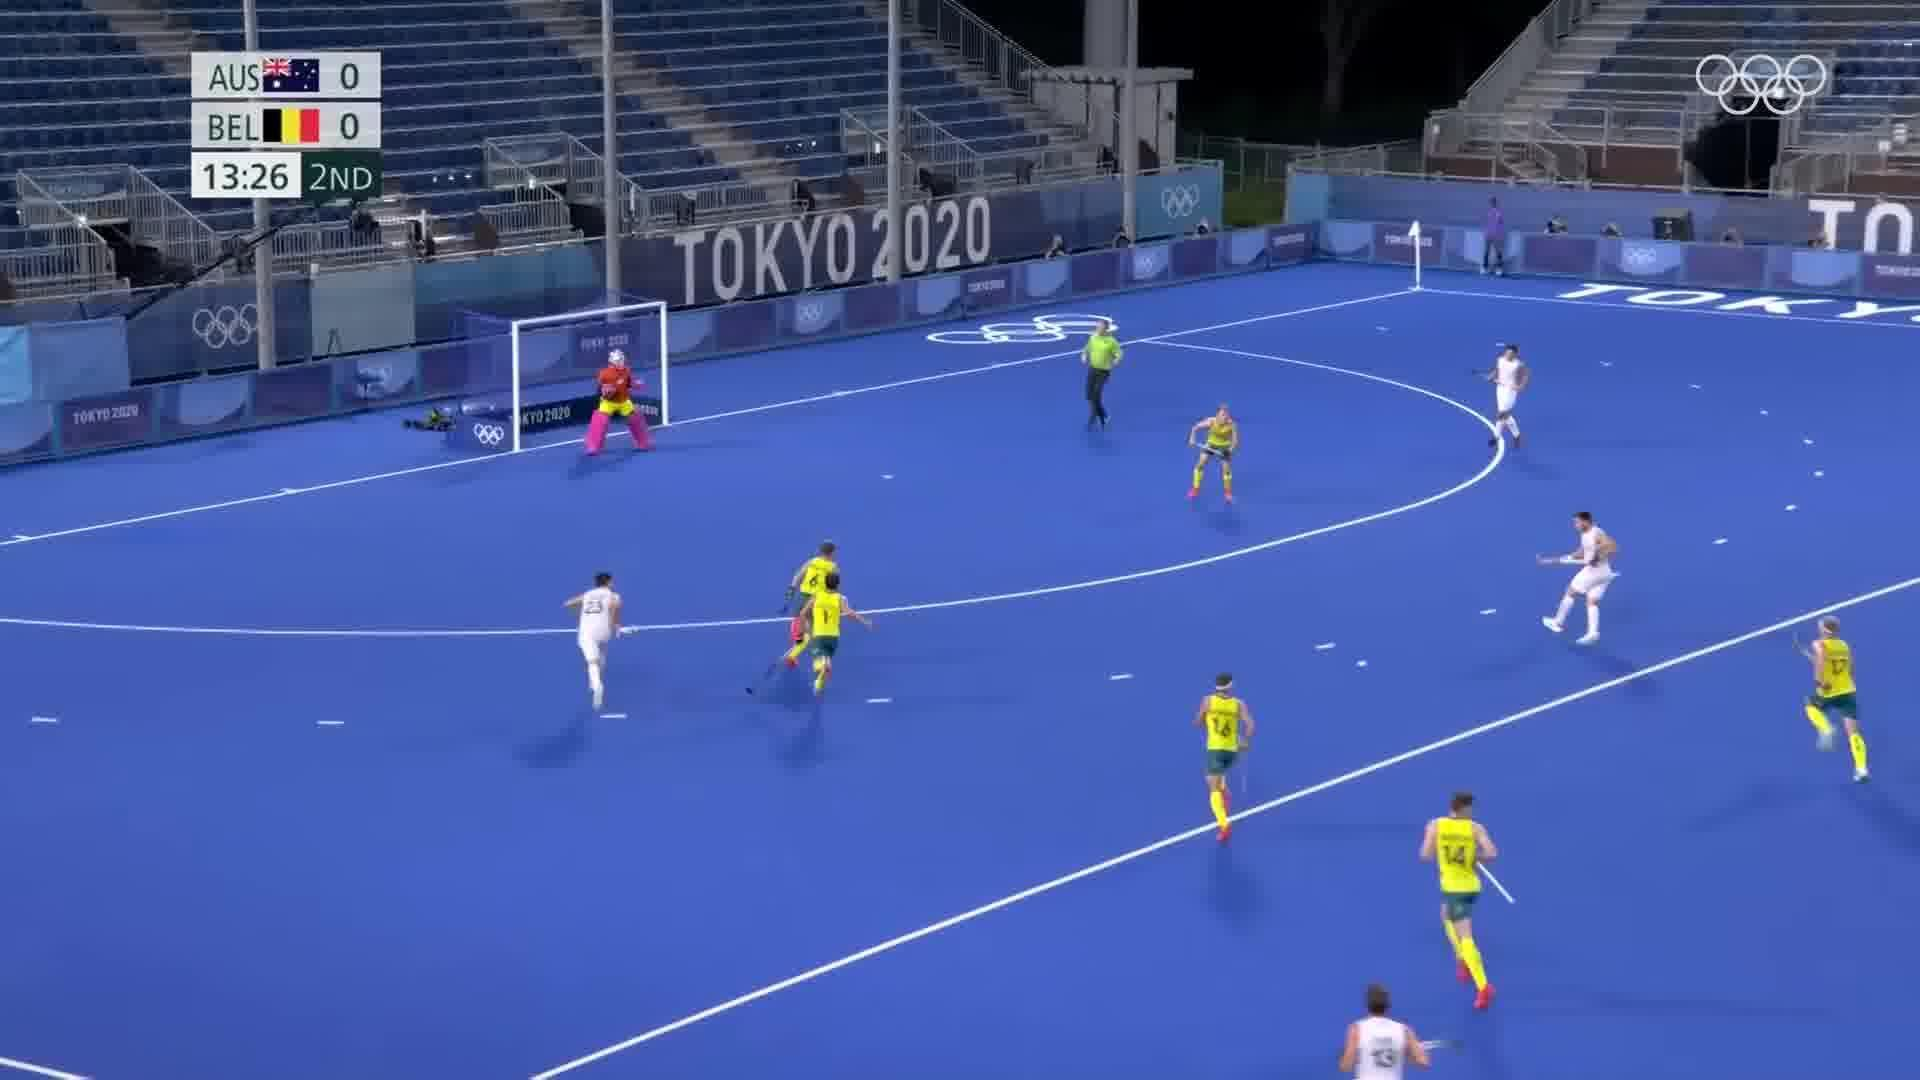ball: (1352, 655, 1374, 676)
